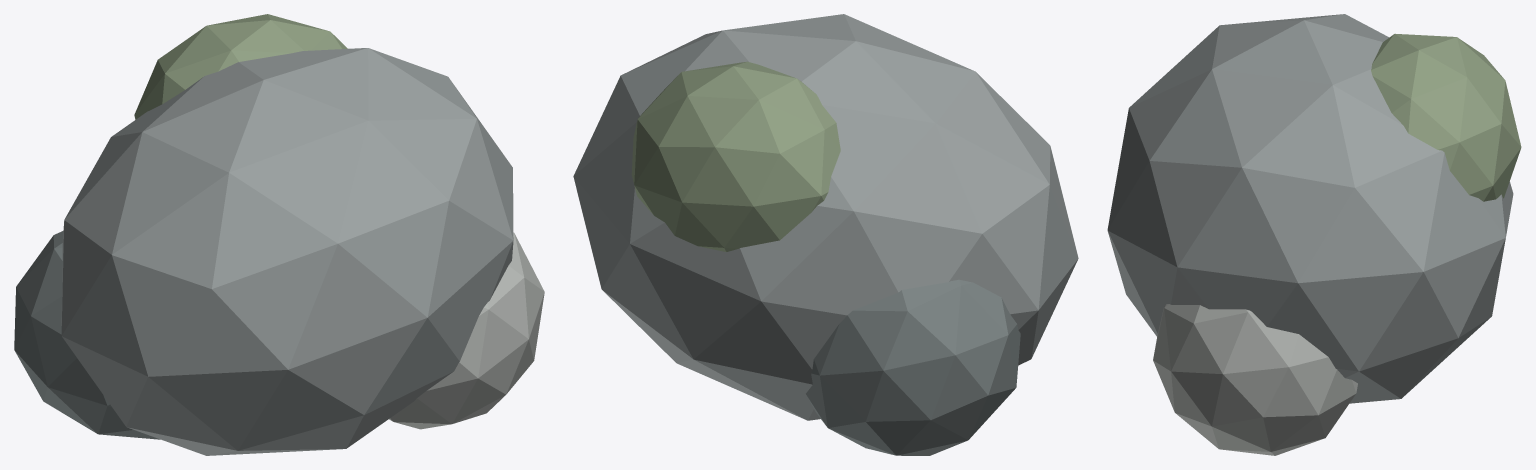
The model's file is boulder_large_3m.glb.
3 views of the same model, side by side, from view 1: azimuth 30°, elevation 25°; view 2: azimuth 150°, elevation 25°; view 3: azimuth 270°, elevation 25° (orthographic).
Visible parts, largest first — view 1: boulder_large_01, boulder_large_03, boulder_large_02, boulder_large_04; view 2: boulder_large_01, boulder_large_04, boulder_large_02; view 3: boulder_large_01, boulder_large_03, boulder_large_04.
Boxes of the visible parts, x1,y1,x2,y2 form: boulder_large_01: (61, 48, 513, 455); boulder_large_03: (389, 232, 544, 429); boulder_large_02: (14, 231, 160, 439); boulder_large_04: (134, 14, 347, 119); boulder_large_01: (573, 14, 1078, 420); boulder_large_04: (631, 61, 840, 251); boulder_large_02: (806, 279, 1020, 455); boulder_large_01: (1107, 14, 1513, 403); boulder_large_03: (1153, 304, 1357, 455); boulder_large_04: (1371, 33, 1521, 201).
Bounding box in the file's own units: 2.98 × 2.34 × 2.44.
